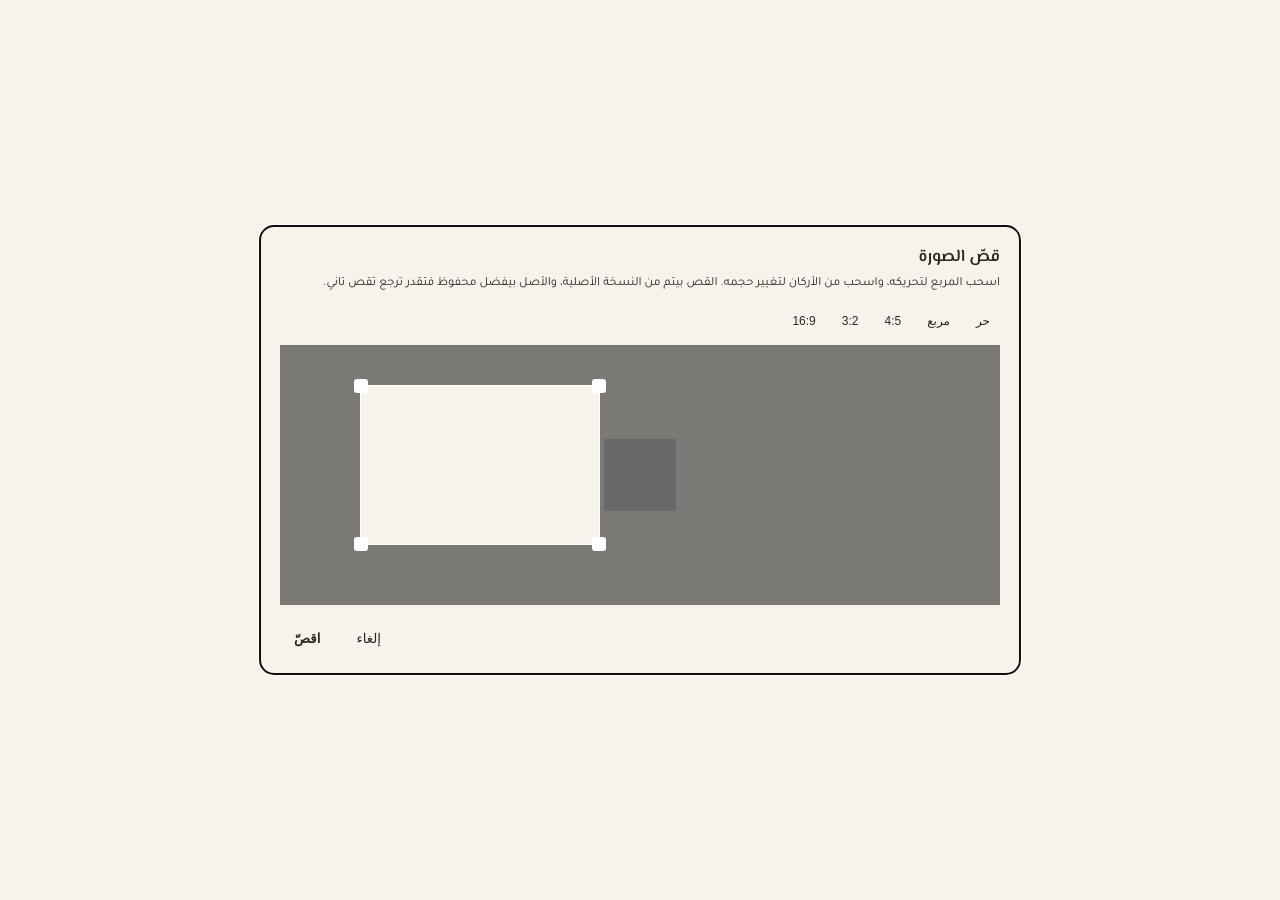
Test: CropDialog › keeps the dialog open and says why when the server refuses
Click the button "اقصّ": (307, 638) [280,622,334,654]
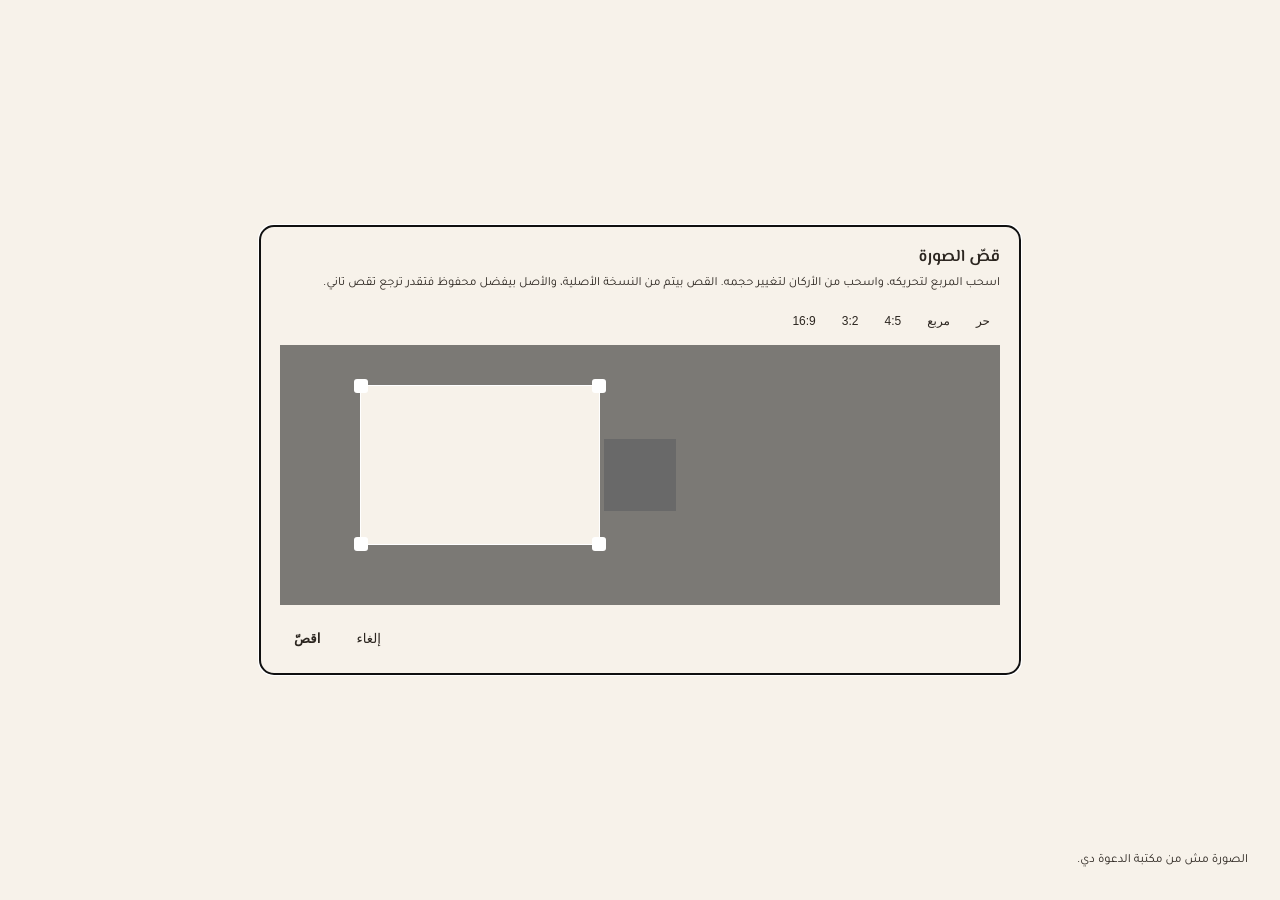
Check: the message reads "الصورة مش من مكتبة الدعوة دي.", box [1077,854,1248,866]
